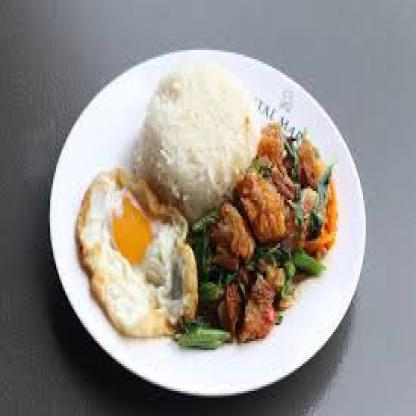Basil Rice: (65, 59, 346, 384)
